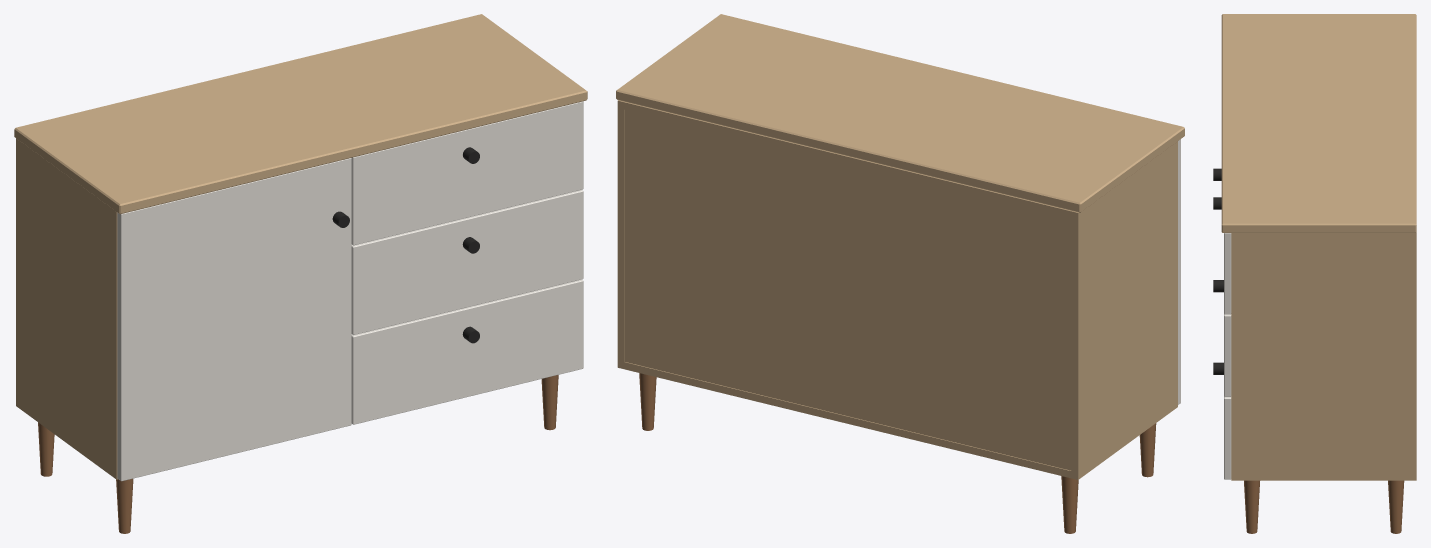
File: 17_komoda_120_drzwi_szuflady.glb
The picture shows the model from 3 angles, left to right: view 1: azimuth 30°, elevation 25°; view 2: azimuth 150°, elevation 25°; view 3: azimuth 270°, elevation 25°; orthographic projection. The views are drawn at different scales.
Parts seen in each view (by area): view 1: Front_drzwi_1, Wierzch, Korpus, Front_szuflada_4, Front_szuflada_3, Front_szuflada_2, Nogi, Uchwyty; view 2: Korpus, Wierzch, Nogi, Front_drzwi_1; view 3: Korpus, Wierzch, Nogi, Front_szuflada_3, Front_szuflada_4, Front_szuflada_2, Uchwyty.
Boxes of the visible parts, left/top/right/bottom form: Front_drzwi_1: left=117, top=158, right=351, bottom=481; Wierzch: left=14, top=14, right=587, bottom=214; Korpus: left=16, top=138, right=117, bottom=479; Front_szuflada_4: left=351, top=279, right=583, bottom=424; Front_szuflada_3: left=351, top=190, right=583, bottom=334; Front_szuflada_2: left=351, top=101, right=583, bottom=245; Nogi: left=38, top=375, right=558, bottom=533; Uchwyty: left=332, top=147, right=479, bottom=343; Korpus: left=617, top=100, right=1177, bottom=479; Wierzch: left=616, top=14, right=1184, bottom=212; Nogi: left=639, top=373, right=1156, bottom=533; Front_drzwi_1: left=1178, top=139, right=1180, bottom=404; Korpus: left=1231, top=232, right=1416, bottom=480; Wierzch: left=1221, top=14, right=1416, bottom=232; Nogi: left=1244, top=480, right=1404, bottom=533; Front_szuflada_3: left=1224, top=314, right=1231, bottom=396; Front_szuflada_4: left=1224, top=396, right=1231, bottom=479; Front_szuflada_2: left=1224, top=233, right=1231, bottom=314; Uchwyty: left=1213, top=168, right=1223, bottom=374.
Size of the model in its own units: 1.21 by 0.85 by 0.494.
